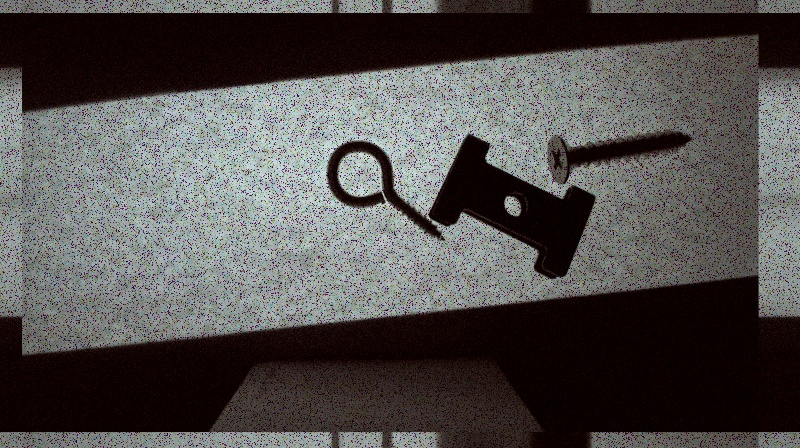O001: (323, 137, 447, 243)
O002: (430, 133, 594, 280)
S001: (545, 125, 693, 184)
